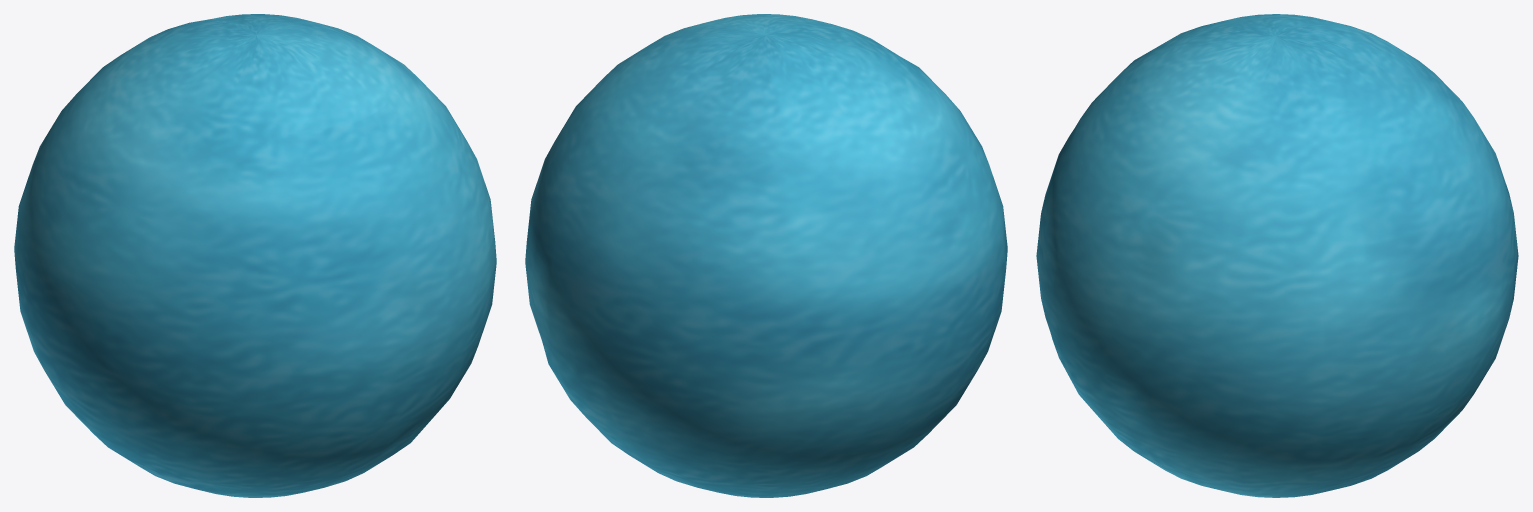
Rendered from water_ball.obj.
The picture shows the model from 3 angles, left to right: view 1: azimuth 30°, elevation 25°; view 2: azimuth 150°, elevation 25°; view 3: azimuth 270°, elevation 25°; orthographic projection.
Visible parts, largest first — view 1: Sphere; view 2: Sphere; view 3: Sphere.
Part boxes in pixels (box(x1,y1,x2,y2)): Sphere: box(14, 14, 496, 497); Sphere: box(525, 14, 1007, 497); Sphere: box(1036, 14, 1518, 497).
Size of the model in its own units: 1.99 by 2 by 1.99.
1 material, 1 textured.
